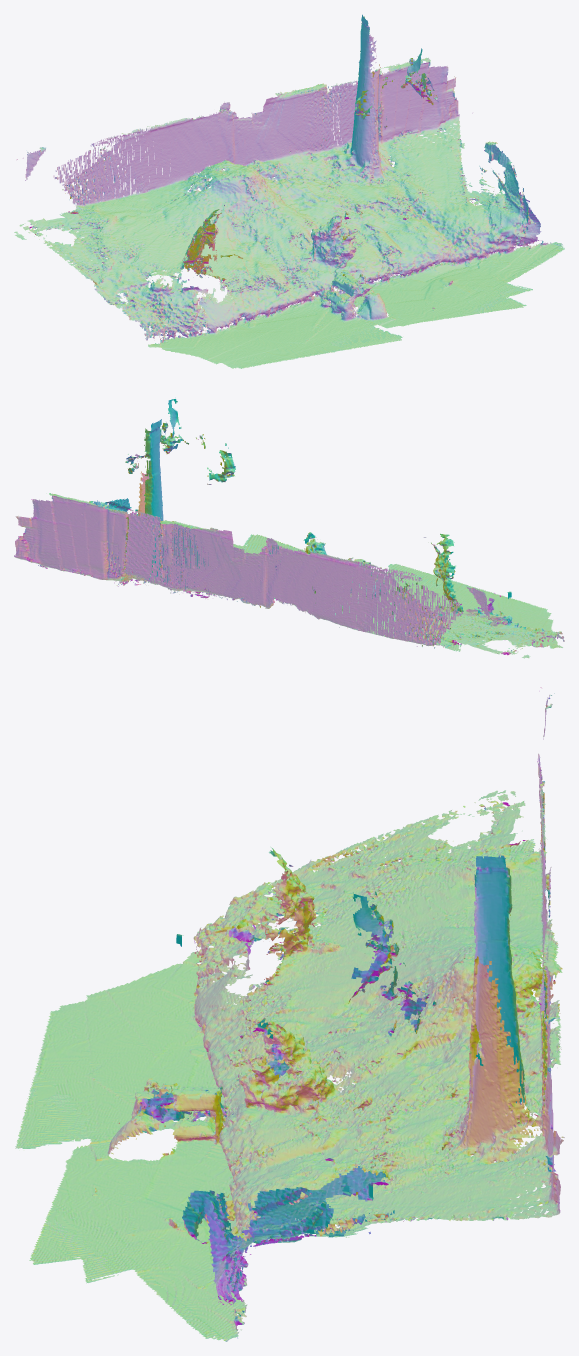
The model's file is background.glb.
3 renders of one model, top to bottom at view 1: azimuth 30°, elevation 25°; view 2: azimuth 150°, elevation 25°; view 3: azimuth 270°, elevation 25°, orthographic. The views are drawn at different scales.
Parts seen in each view (by area): view 1: AbundanceScan-2026-07-18_195246.glb; view 2: AbundanceScan-2026-07-18_195246.glb; view 3: AbundanceScan-2026-07-18_195246.glb.
Boxes of the visible parts, bbox=[...] form: AbundanceScan-2026-07-18_195246.glb: bbox=[14, 14, 564, 368]; AbundanceScan-2026-07-18_195246.glb: bbox=[14, 399, 564, 658]; AbundanceScan-2026-07-18_195246.glb: bbox=[15, 687, 564, 1341].
Bounding box in the file's own units: 14.03 × 5.94 × 7.72.
